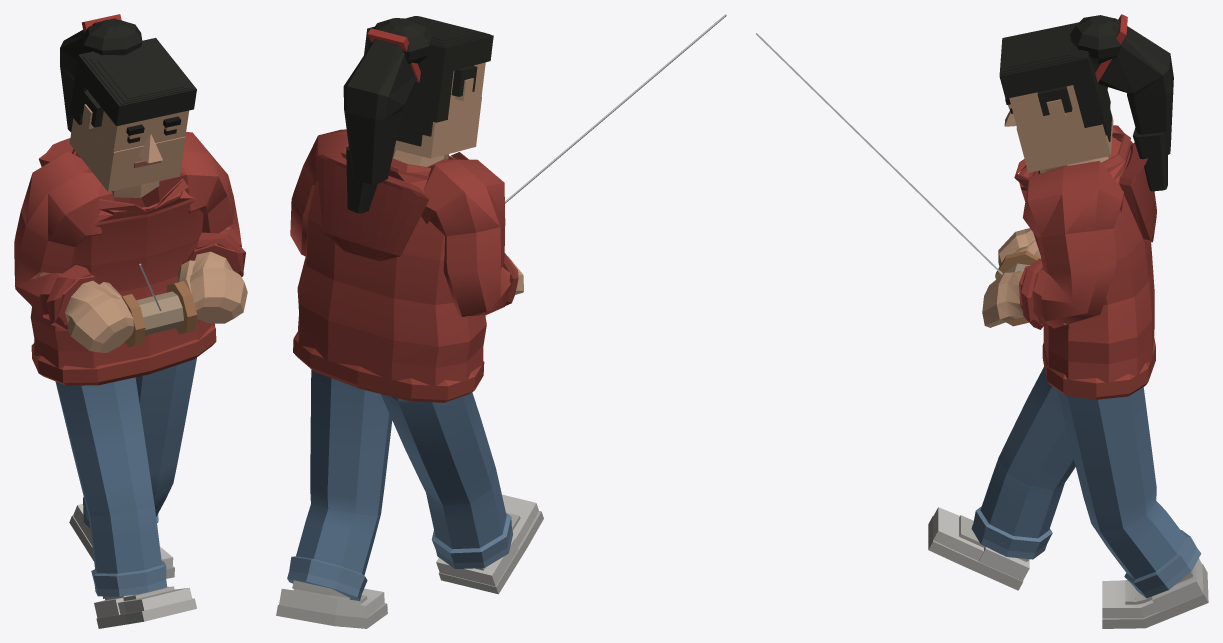
The model's file is kite-kid-0a7d70__walk4.glb.
The picture shows the model from 3 angles, left to right: view 1: azimuth 30°, elevation 25°; view 2: azimuth 150°, elevation 25°; view 3: azimuth 270°, elevation 25°; orthographic projection. The views are drawn at different scales.
Visible parts, largest first — view 1: kite-kid-0a7d70__walk4; view 2: kite-kid-0a7d70__walk4; view 3: kite-kid-0a7d70__walk4.
Part boxes in pixels (x1=…): kite-kid-0a7d70__walk4: x1=14, y1=14, x2=247, y2=628; kite-kid-0a7d70__walk4: x1=276, y1=14, x2=726, y2=628; kite-kid-0a7d70__walk4: x1=756, y1=14, x2=1208, y2=628.
Bounding box in the file's own units: 0.5683 × 1.21 × 0.8585.
